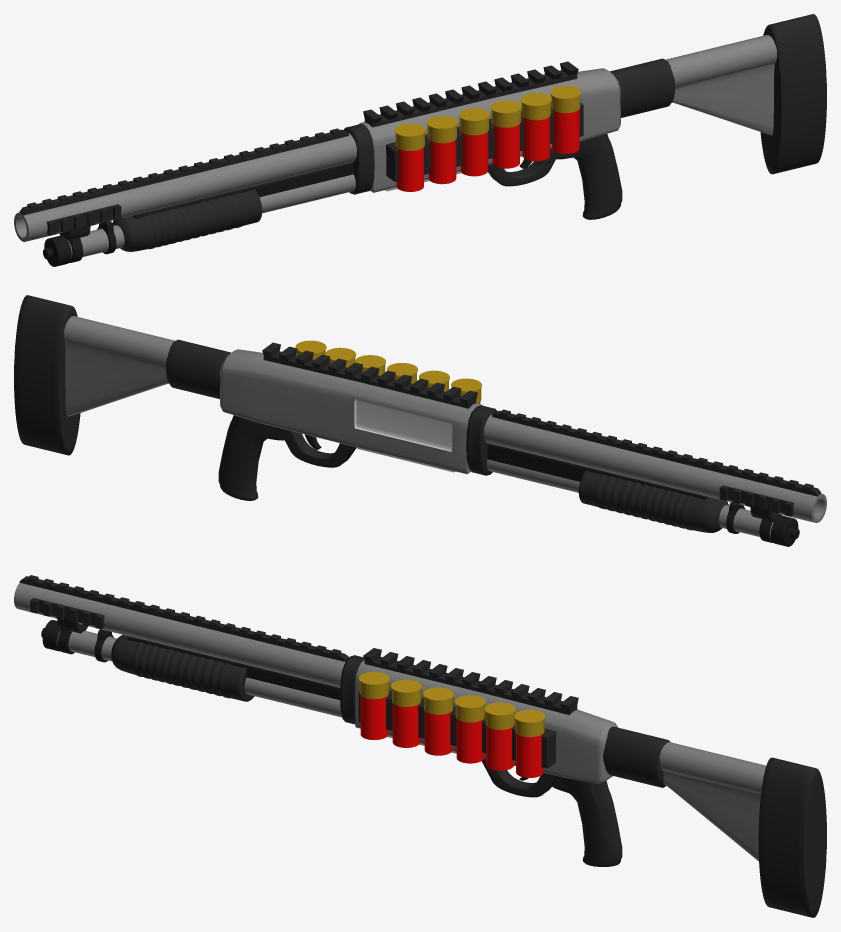
3 views of the same model, one above another, from view 1: azimuth 30°, elevation 25°; view 2: azimuth 150°, elevation 25°; view 3: azimuth 330°, elevation 25° (orthographic).
Parts seen in each view (by area): view 1: polySurface53 (×6); view 2: polySurface53 (×6); view 3: polySurface53 (×6).
Part boxes in pixels (x1,y1,x2,y2): polySurface53 (×6): (14,14,826,266); polySurface53 (×6): (14,295,826,546); polySurface53 (×6): (14,575,826,917).
Bounding box in the file's own units: 16.96 × 3.2 × 1.39.
